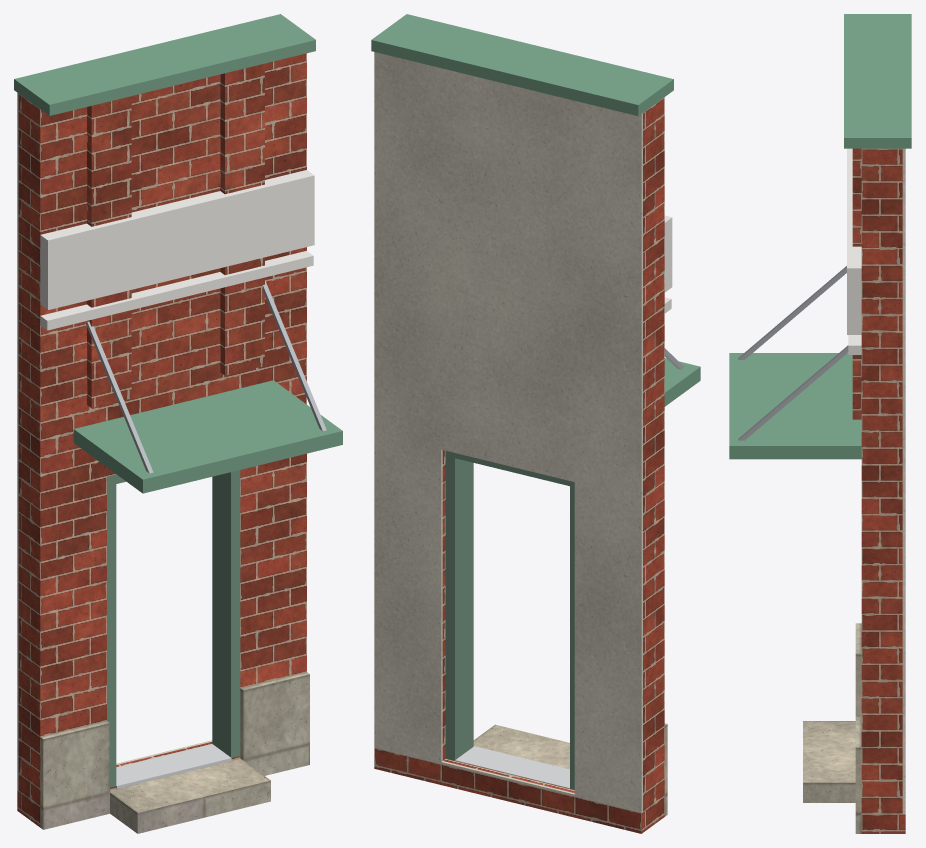
The model's file is wall_brick_door.glb.
The picture shows the model from 3 angles, left to right: view 1: azimuth 30°, elevation 25°; view 2: azimuth 150°, elevation 25°; view 3: azimuth 270°, elevation 25°; orthographic projection. The views are drawn at different scales.
Visible parts, largest first — view 1: wall_brick_door_brick, wall_brick_door_coping, wall_brick_door_trim, wall_brick_door_stone, wall_brick_door_frame2, wall_brick_door_metal, wall_brick_door_steel, wall_brick_door_plaster; view 2: wall_brick_door_plaster, wall_brick_door_brick, wall_brick_door_coping, wall_brick_door_frame2, wall_brick_door_stone, wall_brick_door_metal, wall_brick_door_trim; view 3: wall_brick_door_brick, wall_brick_door_coping, wall_brick_door_stone, wall_brick_door_plaster, wall_brick_door_trim, wall_brick_door_steel.
Part boxes in pixels (x1=…): wall_brick_door_brick: x1=17, y1=53, x2=306, y2=827; wall_brick_door_coping: x1=14, y1=14, x2=342, y2=493; wall_brick_door_trim: x1=40, y1=170, x2=314, y2=330; wall_brick_door_stone: x1=40, y1=672, x2=309, y2=833; wall_brick_door_frame2: x1=107, y1=470, x2=240, y2=787; wall_brick_door_metal: x1=116, y1=744, x2=231, y2=788; wall_brick_door_steel: x1=86, y1=280, x2=326, y2=473; wall_brick_door_plaster: x1=17, y1=93, x2=212, y2=790; wall_brick_door_plaster: x1=374, y1=52, x2=642, y2=812; wall_brick_door_brick: x1=374, y1=97, x2=664, y2=833; wall_brick_door_coping: x1=371, y1=14, x2=700, y2=406; wall_brick_door_frame2: x1=445, y1=451, x2=574, y2=789; wall_brick_door_stone: x1=473, y1=723, x2=667, y2=816; wall_brick_door_metal: x1=455, y1=746, x2=569, y2=788; wall_brick_door_trim: x1=664, y1=215, x2=672, y2=313; wall_brick_door_brick: x1=852, y1=148, x2=905, y2=833; wall_brick_door_coping: x1=729, y1=14, x2=911, y2=459; wall_brick_door_stone: x1=803, y1=623, x2=861, y2=833; wall_brick_door_plaster: x1=902, y1=148, x2=905, y2=813; wall_brick_door_trim: x1=847, y1=148, x2=861, y2=354; wall_brick_door_steel: x1=738, y1=266, x2=848, y2=440.
Size of the model in its own units: 2 by 5.23 by 1.24.
Materials: 8 (3 with a texture image).
